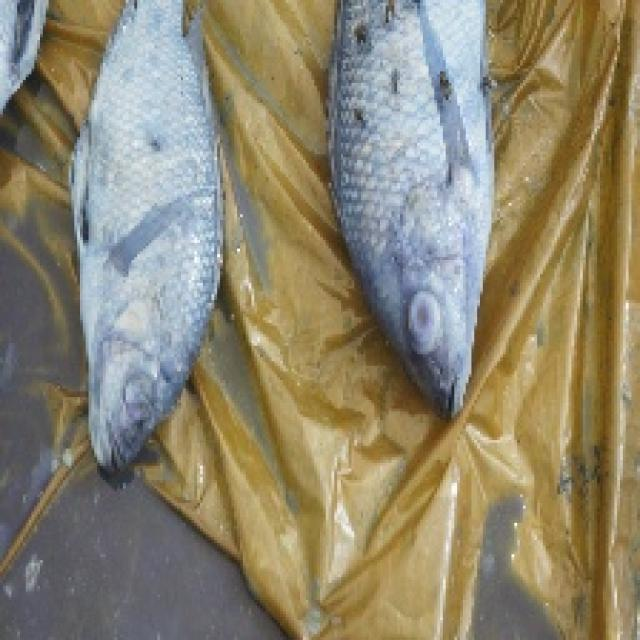Non-Fresh: (40, 58, 244, 486), (304, 51, 526, 434)
